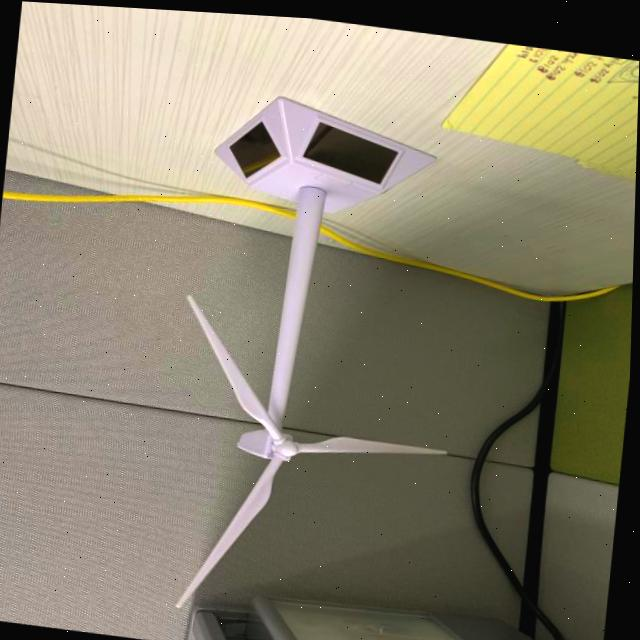solid-blade: (181, 455, 284, 604), (188, 292, 278, 424), (299, 431, 449, 448)
